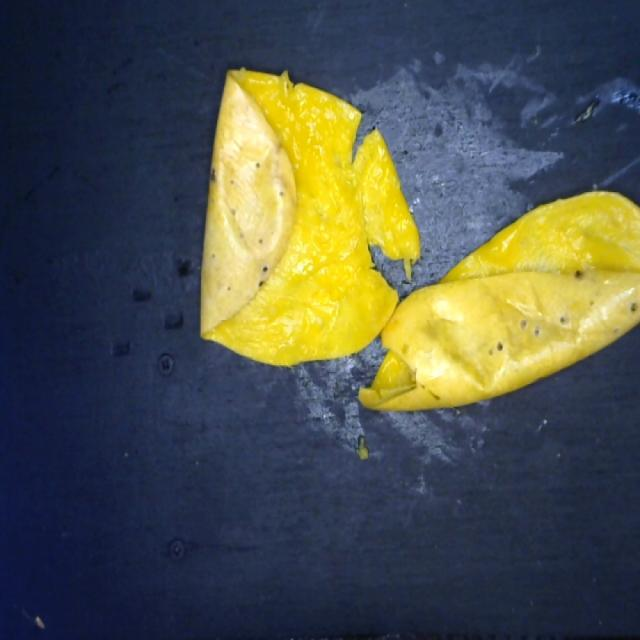biodegradable: (194, 60, 640, 416)
